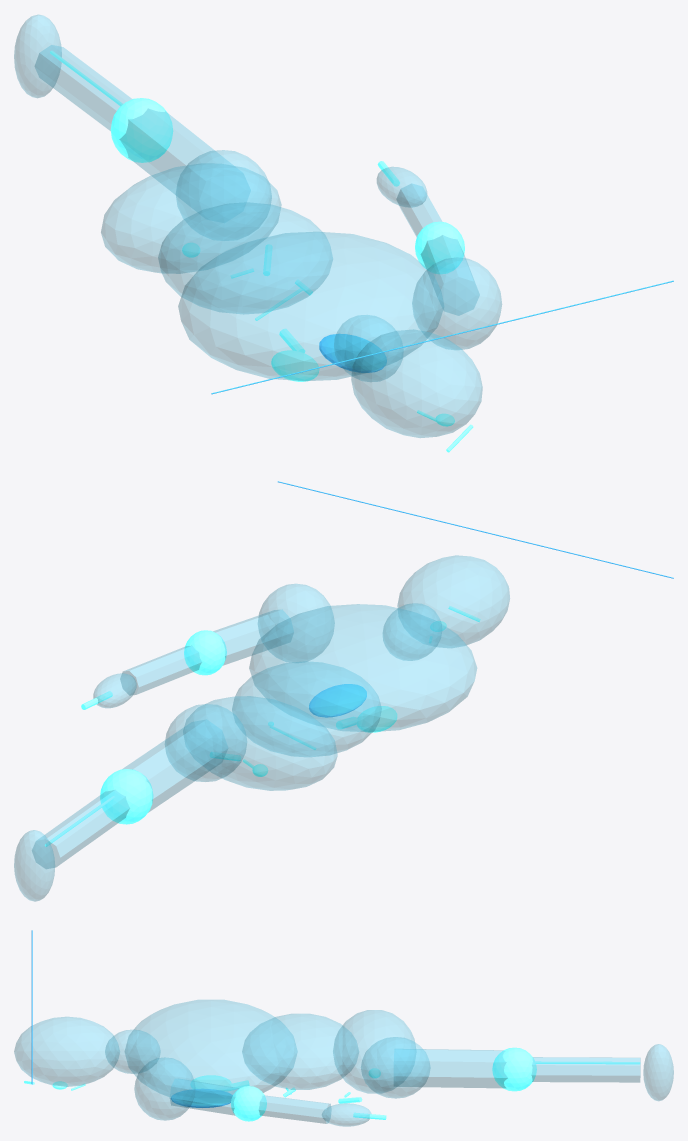
The model's file is astronaut-hologram.glb.
3 views of the same model, one above another, from view 1: azimuth 30°, elevation 25°; view 2: azimuth 150°, elevation 25°; view 3: azimuth 270°, elevation 25° (orthographic). The views are drawn at different scales.
Parts seen in each view (by area): view 1: ribcage, abdomen, pelvis, head, shoulder, hip, thigh, shin, neck, knee, foot, upper_arm (+6 smaller); view 2: ribcage, abdomen, pelvis, head, hip, shoulder, thigh, shin, neck, knee, foot, upper_arm (+6 smaller); view 3: ribcage, abdomen, head, pelvis, thigh, hip, shoulder, shin, neck, upper_arm, knee, forearm (+6 smaller).
Part boxes in pixels (x1,y1,x2,y2): ribcage: [178, 232, 443, 380]; abdomen: [158, 202, 332, 314]; pelvis: [101, 163, 281, 273]; head: [351, 329, 482, 437]; shoulder: [412, 257, 501, 349]; hip: [176, 150, 271, 218]; thigh: [119, 108, 233, 194]; shin: [34, 45, 131, 130]; neck: [334, 315, 403, 381]; knee: [110, 98, 173, 162]; foot: [14, 14, 61, 97]; upper_arm: [421, 235, 479, 315]; ribcage: [249, 604, 476, 731]; abdomen: [232, 661, 381, 756]; pelvis: [185, 696, 337, 790]; head: [397, 555, 509, 647]; hip: [165, 704, 246, 781]; shoulder: [258, 584, 334, 662]; thigh: [123, 721, 215, 812]; shin: [32, 790, 129, 868]; neck: [383, 603, 441, 660]; knee: [100, 769, 153, 824]; foot: [14, 830, 54, 901]; upper_arm: [213, 610, 289, 665]; ribcage: [125, 1000, 297, 1103]; abdomen: [242, 1014, 358, 1089]; head: [14, 1017, 119, 1086]; pelvis: [333, 1010, 415, 1093]; thigh: [394, 1049, 507, 1087]; hip: [361, 1037, 430, 1098]; shoulder: [134, 1057, 194, 1120]; shin: [531, 1057, 640, 1082]; neck: [105, 1030, 160, 1073]; upper_arm: [170, 1079, 238, 1115]; knee: [492, 1047, 536, 1091]; forearm: [259, 1095, 331, 1123].
Bounding box in the file's own units: 2.6 × 0.708 × 4.72.
